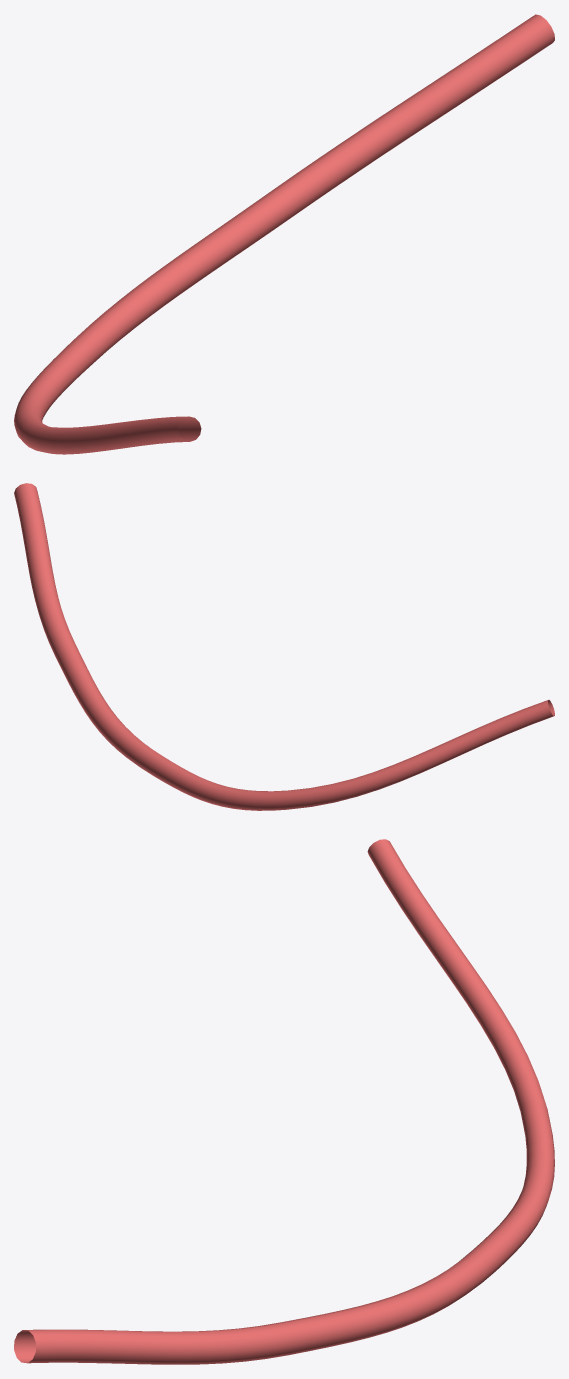
File: Posterior_circumflex_humeral_artery.r_BezierCurve.138.glb
3 views of the same model, one above another, from view 1: azimuth 90°, elevation 25°; view 2: azimuth 150°, elevation 25°; view 3: azimuth 270°, elevation 25° (orthographic). The views are drawn at different scales.
Parts seen in each view (by area): view 1: Posterior_circumflex_humeral_artery.r_BezierCurve.138; view 2: Posterior_circumflex_humeral_artery.r_BezierCurve.138; view 3: Posterior_circumflex_humeral_artery.r_BezierCurve.138.
Boxes of the visible parts, x1,y1,x2,y2 form: Posterior_circumflex_humeral_artery.r_BezierCurve.138: (14,14,554,454); Posterior_circumflex_humeral_artery.r_BezierCurve.138: (14,483,554,810); Posterior_circumflex_humeral_artery.r_BezierCurve.138: (14,839,554,1364).
Size of the model in its own units: 0.0512 by 0.01 by 0.0256.
